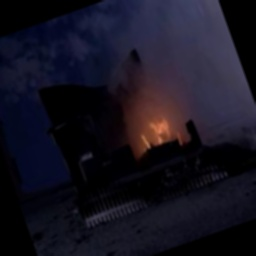fire: (123, 98, 183, 155)
smoke: (80, 0, 245, 120)
